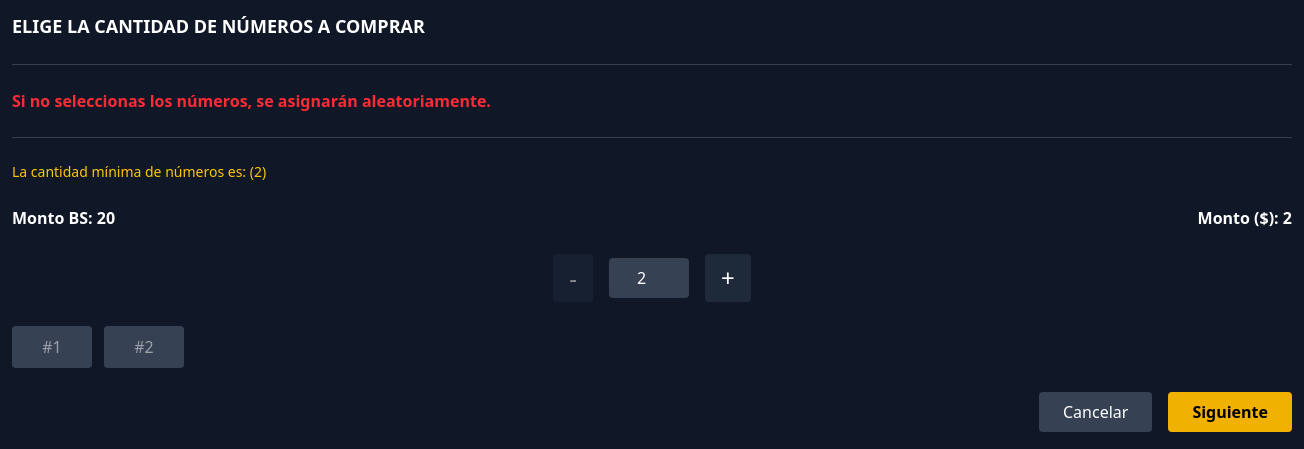
Test: <QuantitySelector /> › accepts up to 4-digit numeric ticket inputs, strips leading zeros, rejects invalid
Type "0001" into the field named "Número 1" at (52, 347), box top-left (12, 326), bottom-right (92, 368)
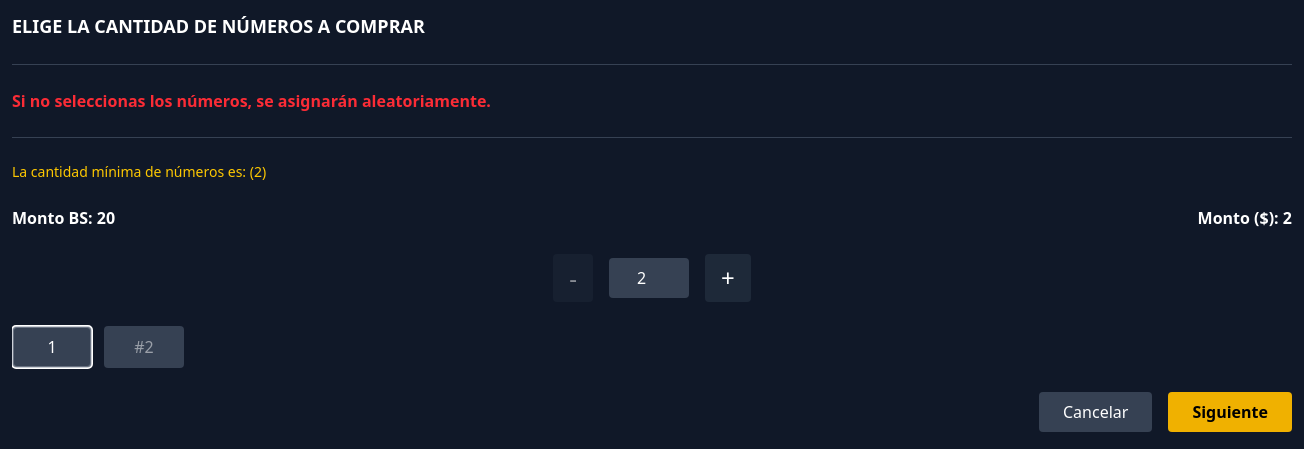
Result: the field named "Número 1" holds "1" at top-left (12, 326), bottom-right (92, 368)
Type "12345" into the field named "Número 2" at (144, 347), box top-left (104, 326), bottom-right (184, 368)
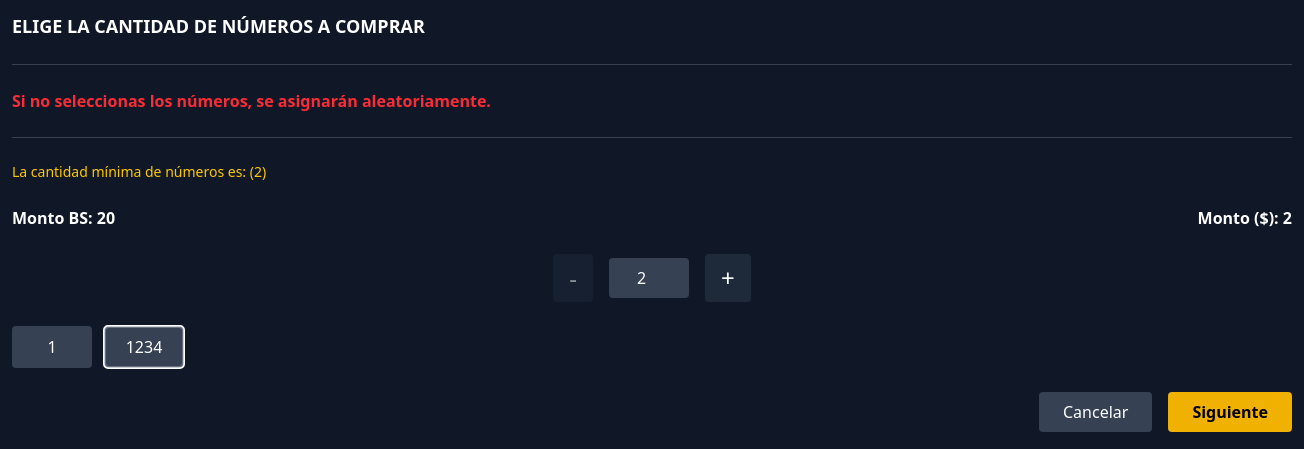
Result: the field named "Número 2" holds "1234" at top-left (104, 326), bottom-right (184, 368)
